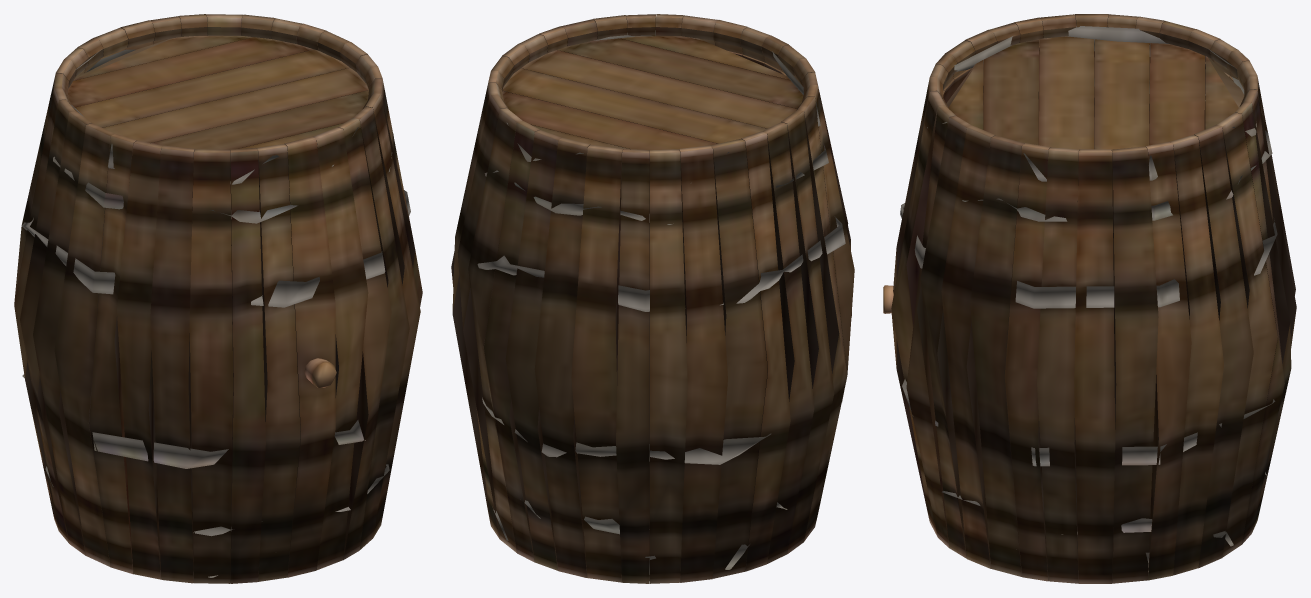
The model's file is wine_barrel_01.glb.
3 views of the same model, side by side, from view 1: azimuth 30°, elevation 25°; view 2: azimuth 150°, elevation 25°; view 3: azimuth 270°, elevation 25° (orthographic).
Parts seen in each view (by area): view 1: wine_barrel_01, wine_barrel_01_Lid, wine_barrel_01_bung; view 2: wine_barrel_01, wine_barrel_01_Lid; view 3: wine_barrel_01, wine_barrel_01_Lid.
Part boxes in pixels (bbox=[...]): wine_barrel_01: bbox=[14, 14, 422, 583]; wine_barrel_01_Lid: bbox=[67, 36, 368, 149]; wine_barrel_01_bung: bbox=[304, 358, 336, 387]; wine_barrel_01: bbox=[451, 14, 854, 583]; wine_barrel_01_Lid: bbox=[502, 36, 803, 150]; wine_barrel_01: bbox=[891, 14, 1296, 583]; wine_barrel_01_Lid: bbox=[946, 36, 1244, 149].
Size of the model in its own units: 0.7419 by 0.8695 by 0.7553.
1 material, 1 textured.
